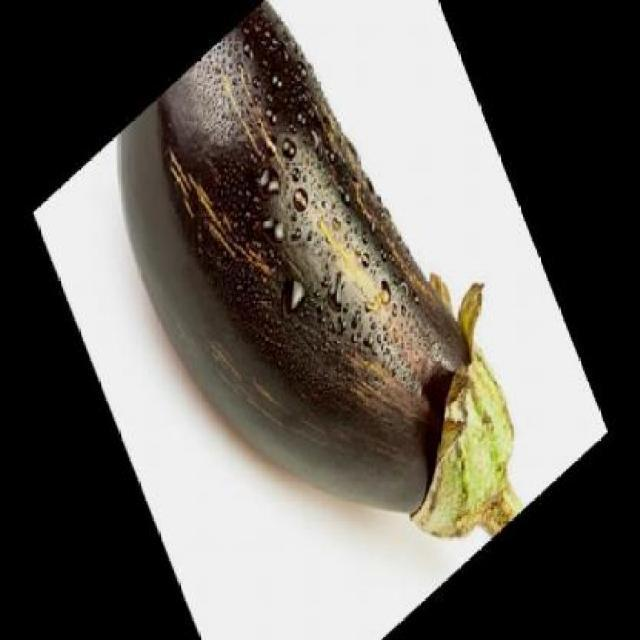eggplant: (110, 3, 525, 545)
